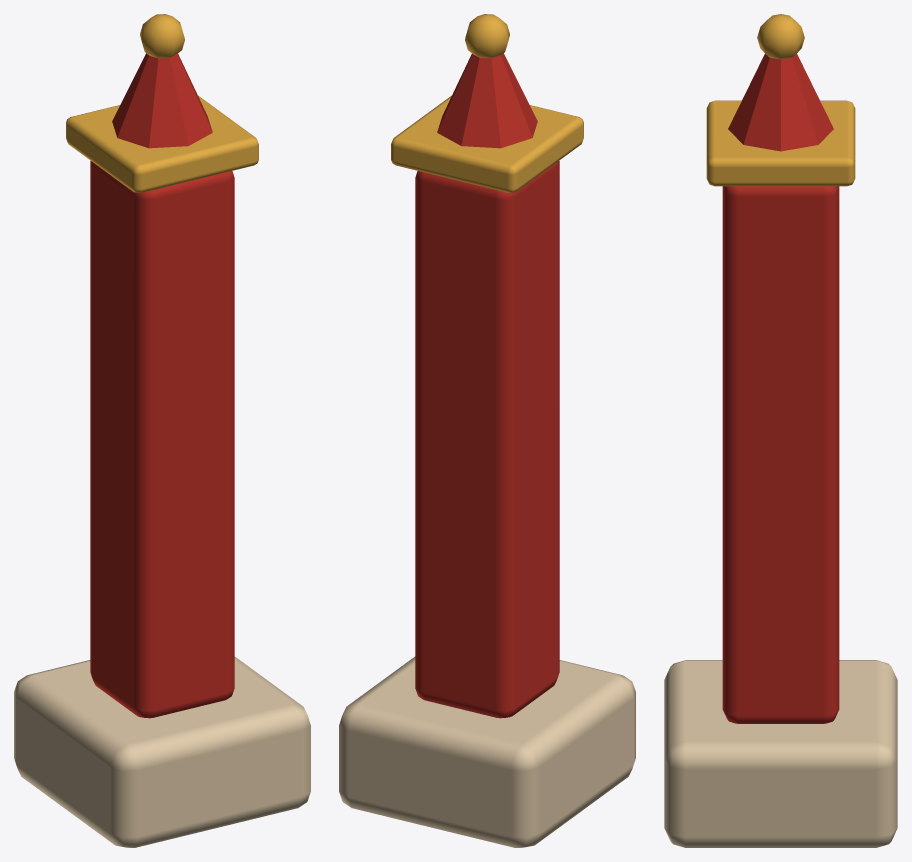
Rendered from rt_lacquer_post.glb.
The picture shows the model from 3 angles, left to right: view 1: azimuth 30°, elevation 25°; view 2: azimuth 150°, elevation 25°; view 3: azimuth 270°, elevation 25°; orthographic projection.
Parts seen in each view (by area): view 1: rt_lacquer_post_body; view 2: rt_lacquer_post_body; view 3: rt_lacquer_post_body.
Part boxes in pixels (<box>): rt_lacquer_post_body: <box>14,14,310,847</box>; rt_lacquer_post_body: <box>339,14,635,847</box>; rt_lacquer_post_body: <box>664,14,897,847</box>.
Bounding box in the file's own units: 0.44 × 1.64 × 0.44.
